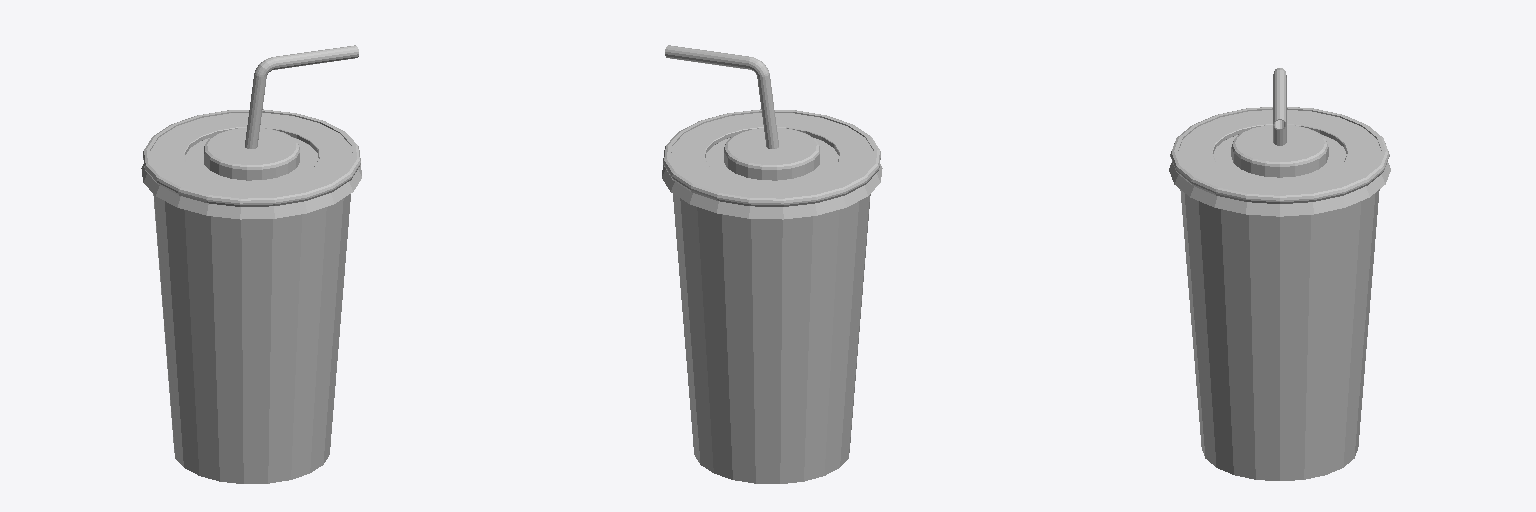
The model's file is SodaCup.obj.
3 views of the same model, side by side, from view 1: azimuth 30°, elevation 25°; view 2: azimuth 150°, elevation 25°; view 3: azimuth 270°, elevation 25° (orthographic).
Parts seen in each view (by area): view 1: Cylinder_1; view 2: Cylinder_1; view 3: Cylinder_1.
Part boxes in pixels (x1,y1,x2,y2): Cylinder_1: (141,45,361,483); Cylinder_1: (662,45,882,483); Cylinder_1: (1169,68,1390,480).
Size of the model in its own units: 114 by 210 by 109.